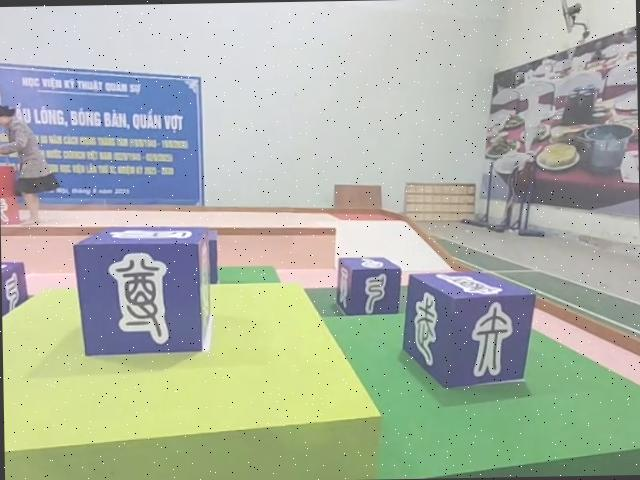R2 Fake Blue: (71, 225, 212, 358), (403, 272, 539, 392), (333, 255, 402, 317), (1, 260, 26, 332)
